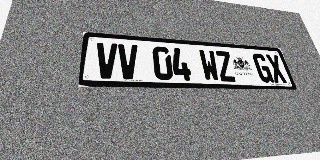0: (152, 46, 173, 80)
4: (170, 47, 192, 81)
G: (251, 53, 274, 83)
V: (95, 42, 117, 79), (118, 44, 139, 79)
W: (198, 49, 221, 81)
X: (265, 54, 288, 83)
Z: (214, 51, 237, 82)
